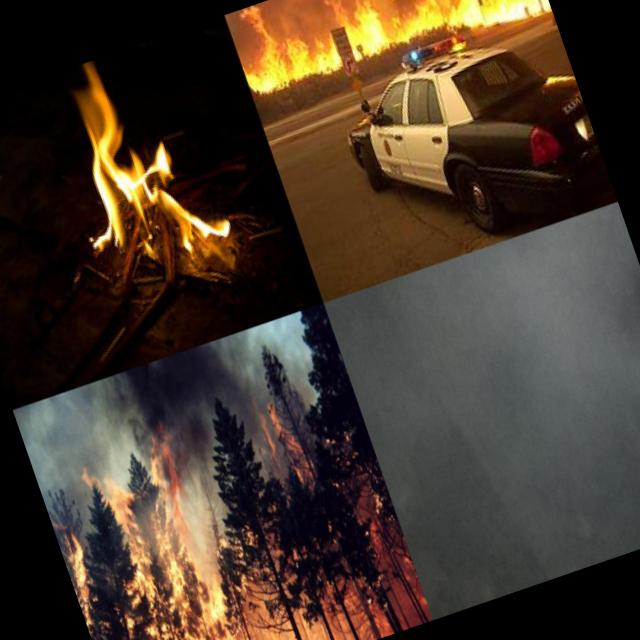fire: (32, 368, 412, 640), (34, 36, 232, 282), (228, 0, 549, 104)
smoke: (323, 200, 640, 618)
